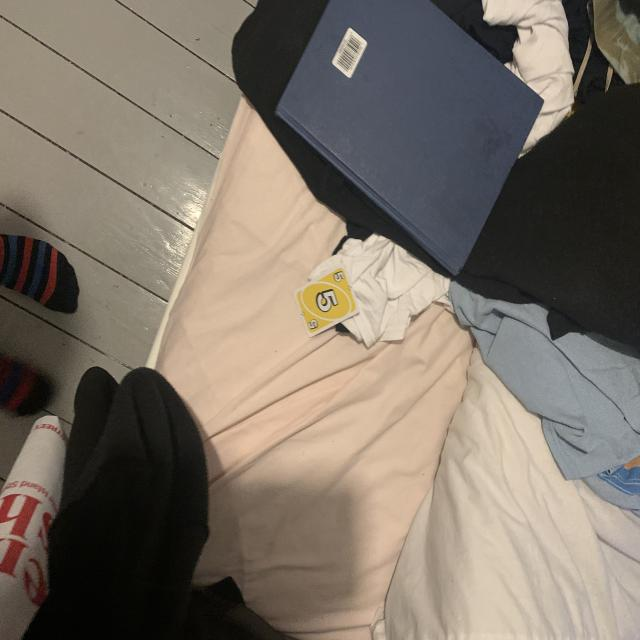lyellow-5: (330, 271, 346, 286)
